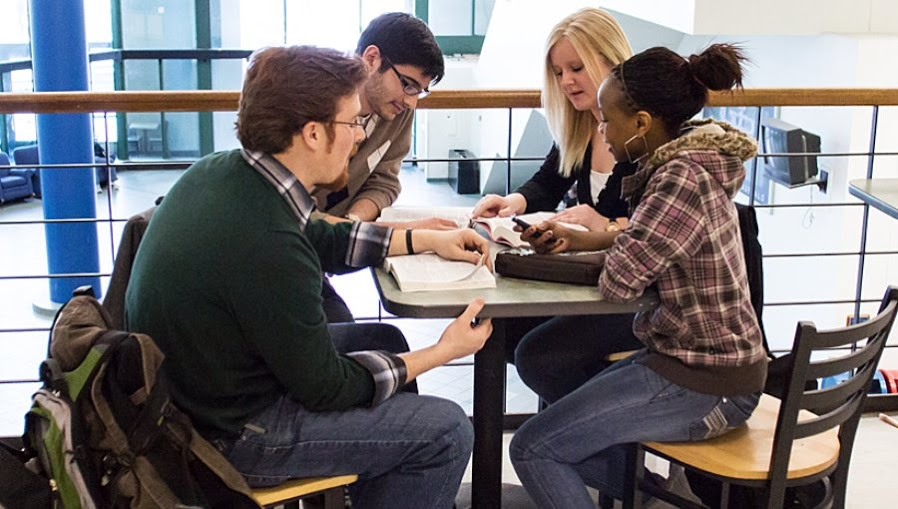Person: (199, 63, 367, 509), (599, 95, 776, 431), (535, 36, 599, 222)
